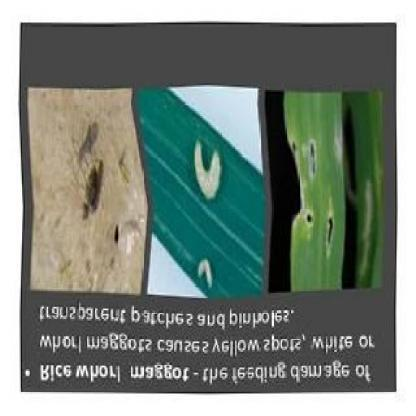whorl-maggot: (189, 138, 227, 204), (192, 254, 217, 290)
